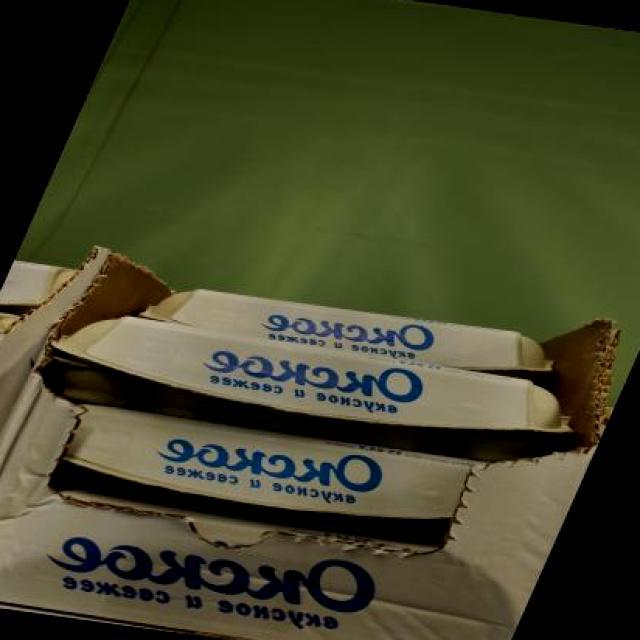Eggs: (25, 311, 598, 472), (45, 404, 480, 544), (133, 281, 566, 381)
